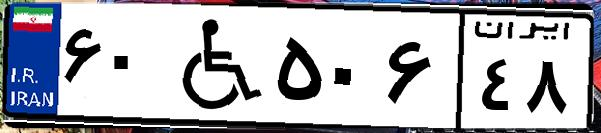0: (330, 28, 385, 110), (110, 28, 158, 98)
4: (475, 38, 525, 113)
5: (270, 28, 330, 110)
6: (385, 28, 445, 110), (57, 26, 110, 100)
8: (525, 38, 570, 115)
ژ (معلولین و جانبازان): (158, 12, 270, 120)
